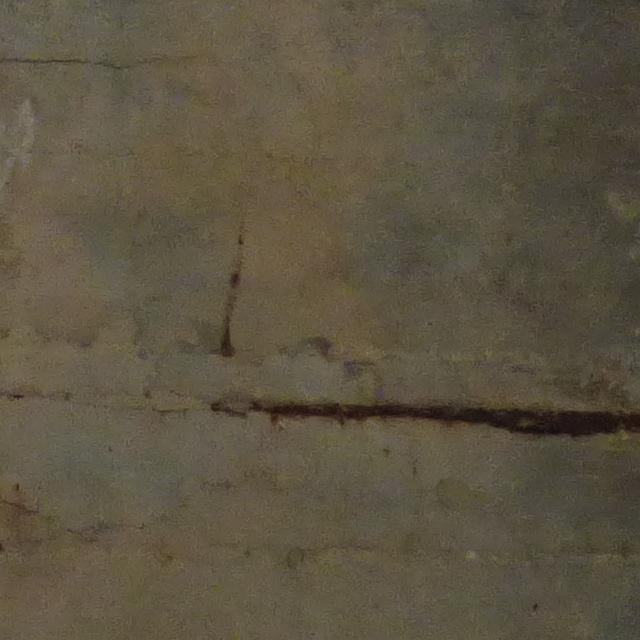Rust: (213, 398, 640, 442), (218, 317, 240, 358)
